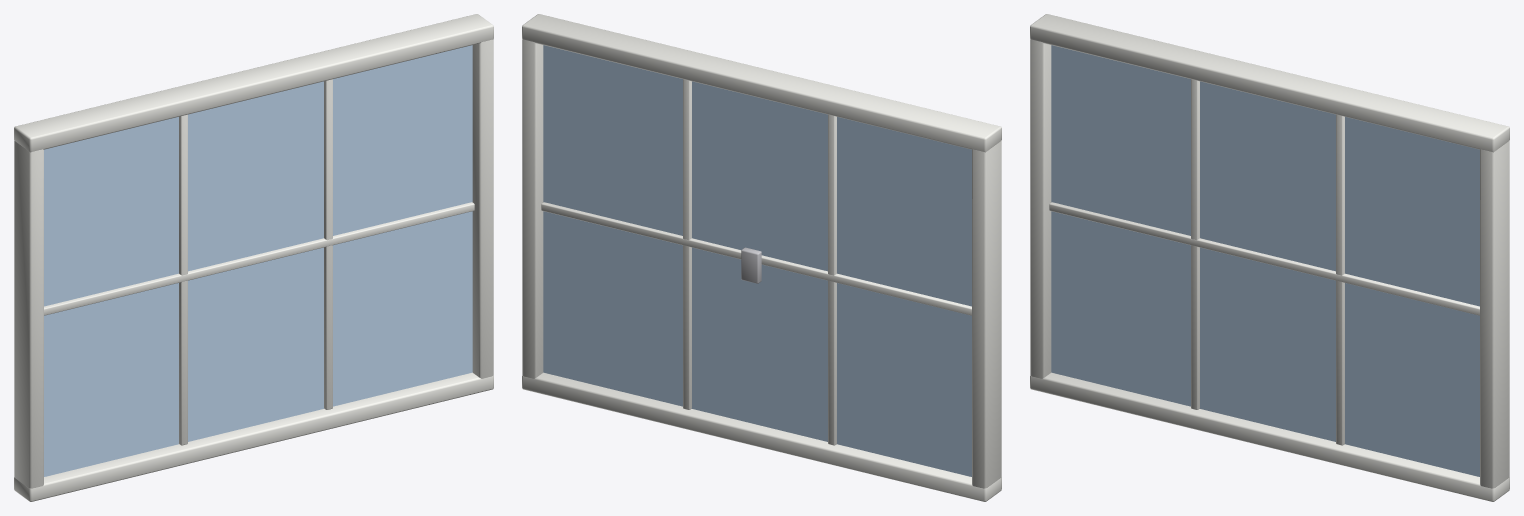
The model's file is Window_Casement_Wide_1.6m.fbx.
3 renders of one model, left to right at view 1: azimuth 30°, elevation 25°; view 2: azimuth 150°, elevation 25°; view 3: azimuth 330°, elevation 25°, orthographic.
Visible parts, largest first — view 1: Window_Casement_Wide_1.6m; view 2: Window_Casement_Wide_1.6m; view 3: Window_Casement_Wide_1.6m.
Boxes of the visible parts, box(x1,y1,x2,y2) form: Window_Casement_Wide_1.6m: box(14, 14, 493, 501); Window_Casement_Wide_1.6m: box(522, 14, 1001, 501); Window_Casement_Wide_1.6m: box(1030, 14, 1509, 501).
Size of the model in its own units: 1.6 by 0.1255 by 1.2.
